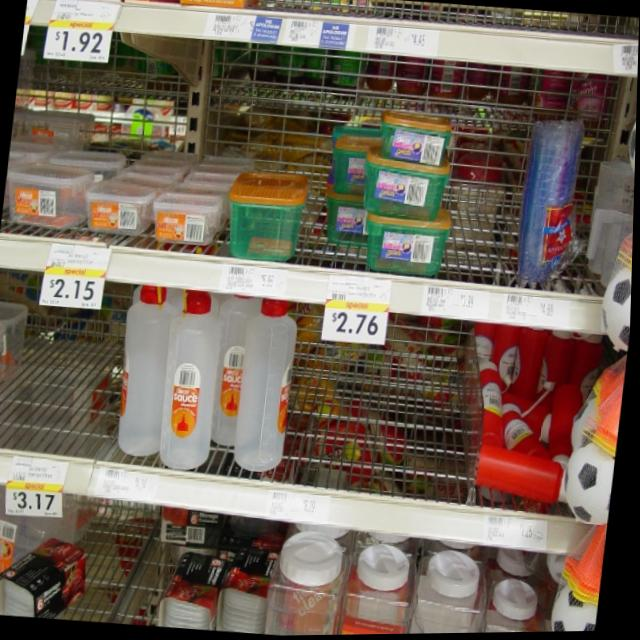q299: (562, 356, 629, 535), (553, 532, 609, 633)
